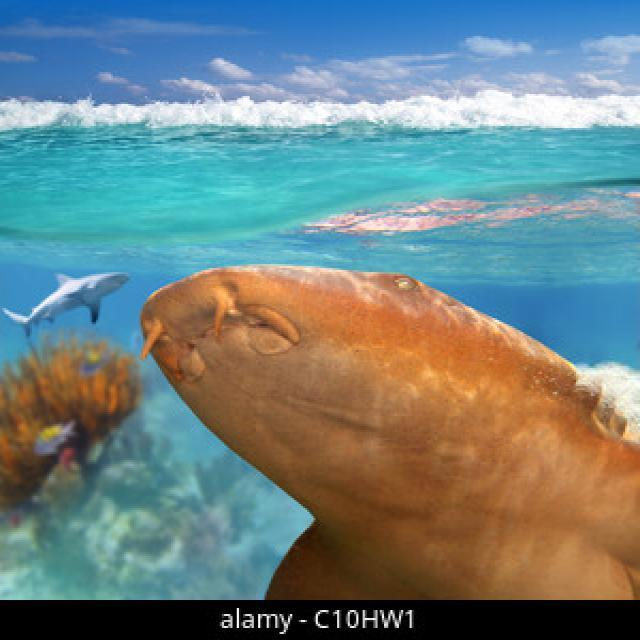Shark: (128, 218, 640, 600)
